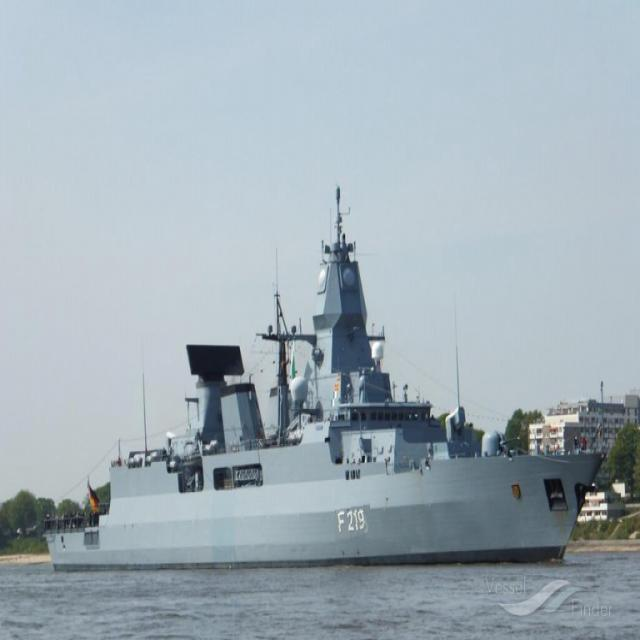OCR: (336, 498, 372, 546)
